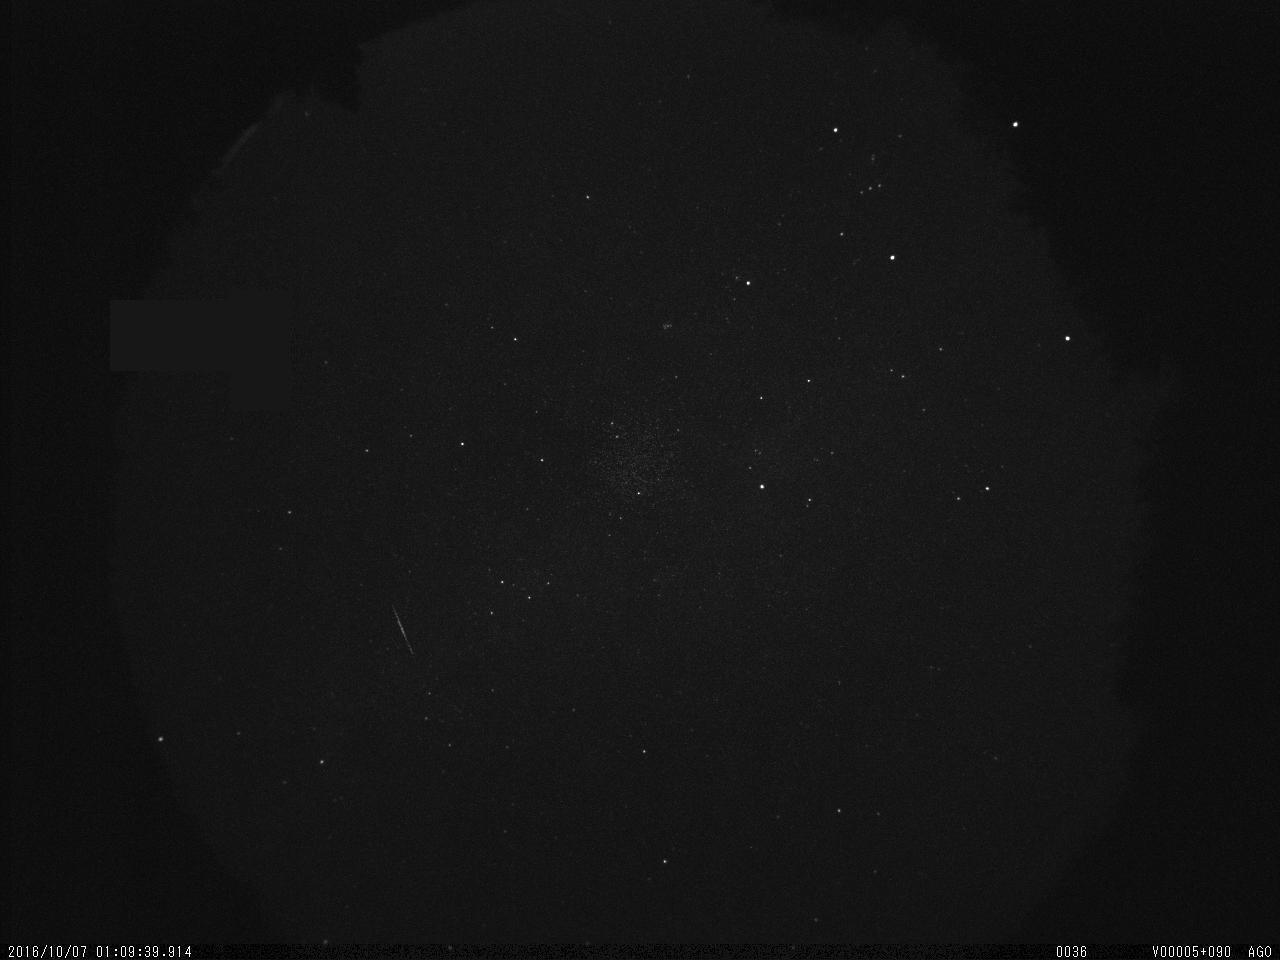Meteor: (387, 600, 417, 659)
